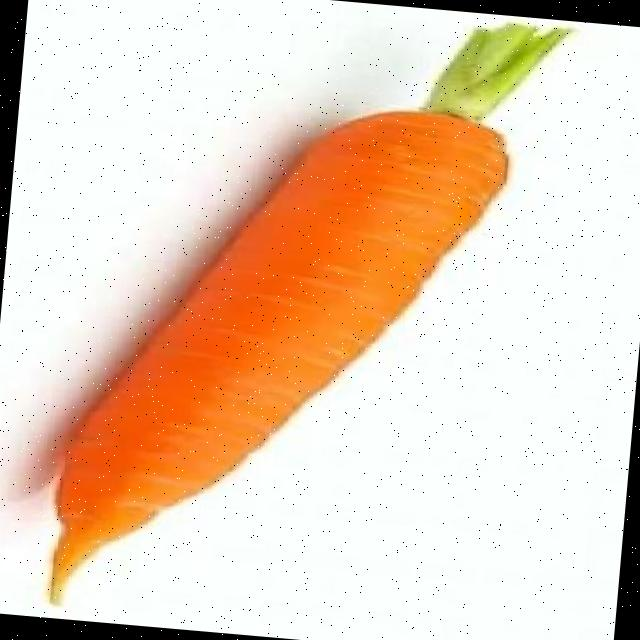carrot: (50, 23, 569, 602)
